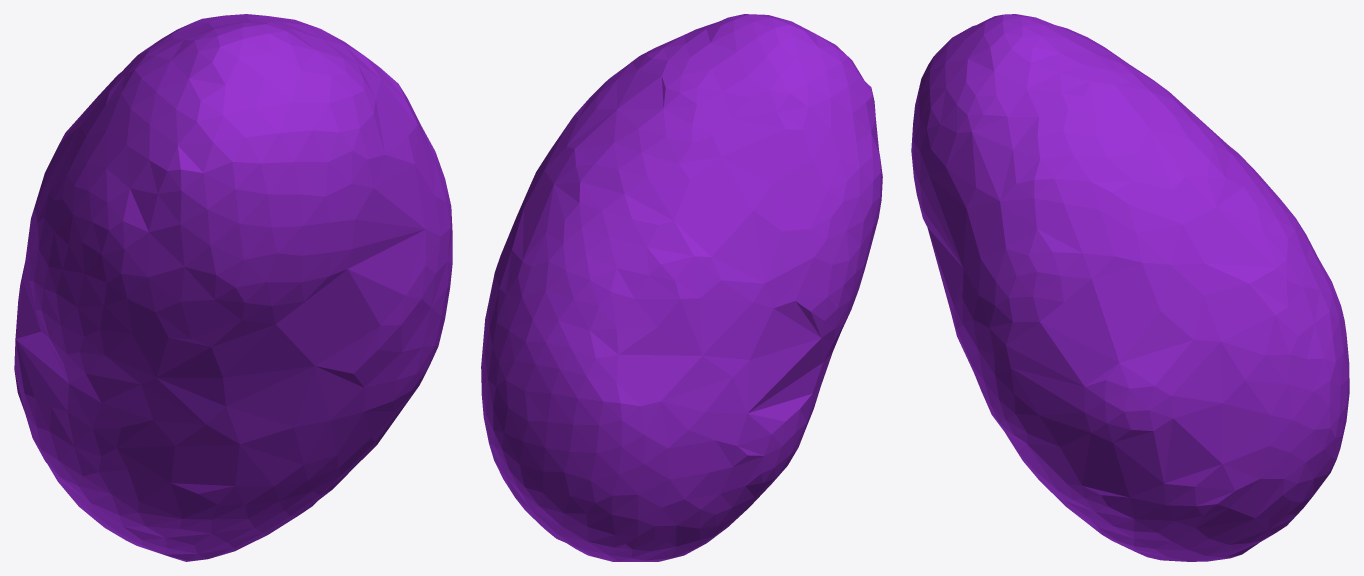
Rendered from Model_602_RH__Lateral_reticular_nucleus_(LRt).obj.
3 views of the same model, side by side, from view 1: azimuth 30°, elevation 25°; view 2: azimuth 150°, elevation 25°; view 3: azimuth 270°, elevation 25° (orthographic). The views are drawn at different scales.
Size of the model in its own units: 1.17 by 1.66 by 1.3.
